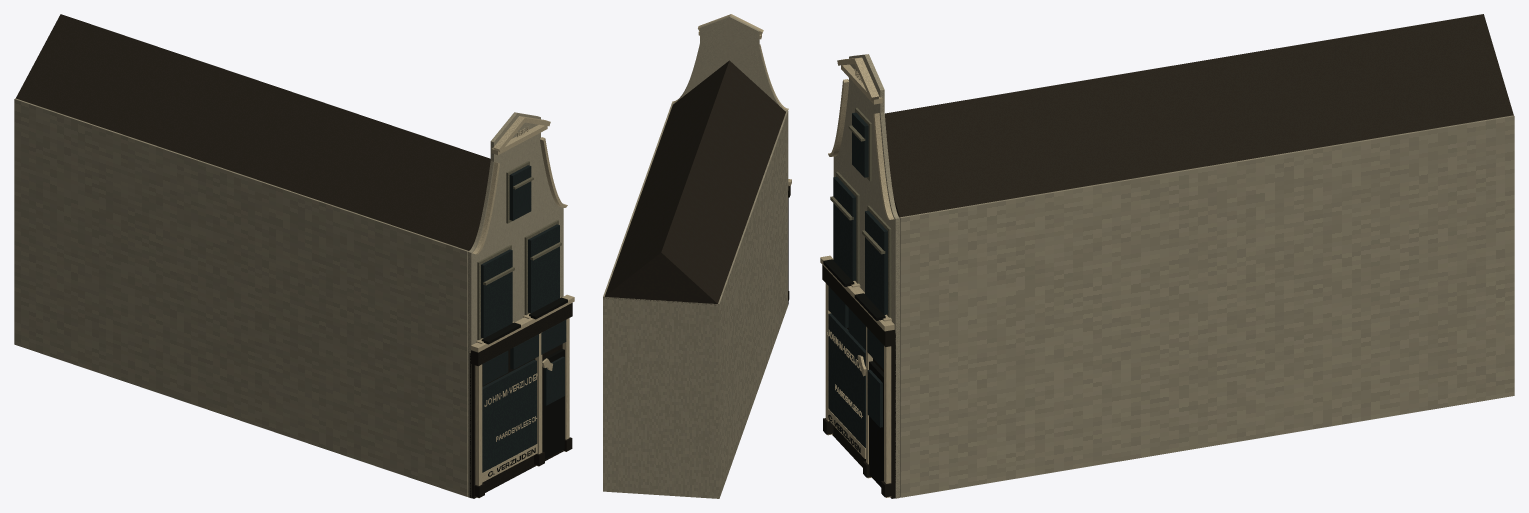
3 views of the same model, side by side, from view 1: azimuth 30°, elevation 25°; view 2: azimuth 150°, elevation 25°; view 3: azimuth 270°, elevation 25° (orthographic). The views are drawn at different scales.
Visible parts, largest first — view 1: slagerij-verzijden-sint-laurens47-0, slagerij-verzijden-sint-laurens47-2, slagerij-verzijden-sint-laurens47-4, slagerij-verzijden-sint-laurens47-1, slagerij-verzijden-sint-laurens47-6, slagerij-verzijden-sint-laurens47-5, slagerij-verzijden-sint-laurens47-3; view 2: slagerij-verzijden-sint-laurens47-0, slagerij-verzijden-sint-laurens47-2, slagerij-verzijden-sint-laurens47-1; view 3: slagerij-verzijden-sint-laurens47-0, slagerij-verzijden-sint-laurens47-2, slagerij-verzijden-sint-laurens47-4, slagerij-verzijden-sint-laurens47-1, slagerij-verzijden-sint-laurens47-6, slagerij-verzijden-sint-laurens47-5, slagerij-verzijden-sint-laurens47-3.
Part boxes in pixels (<box>): slagerij-verzijden-sint-laurens47-0: <box>14,98,563,498</box>; slagerij-verzijden-sint-laurens47-2: <box>16,14,490,250</box>; slagerij-verzijden-sint-laurens47-4: <box>481,165,566,472</box>; slagerij-verzijden-sint-laurens47-1: <box>471,116,574,498</box>; slagerij-verzijden-sint-laurens47-6: <box>469,303,572,498</box>; slagerij-verzijden-sint-laurens47-5: <box>481,297,567,476</box>; slagerij-verzijden-sint-laurens47-3: <box>477,161,561,340</box>; slagerij-verzijden-sint-laurens47-0: <box>603,15,788,498</box>; slagerij-verzijden-sint-laurens47-2: <box>604,60,785,305</box>; slagerij-verzijden-sint-laurens47-1: <box>672,14,791,185</box>; slagerij-verzijden-sint-laurens47-0: <box>833,54,1514,498</box>; slagerij-verzijden-sint-laurens47-2: <box>885,14,1513,217</box>; slagerij-verzijden-sint-laurens47-4: <box>828,112,887,447</box>; slagerij-verzijden-sint-laurens47-1: <box>820,57,894,497</box>; slagerij-verzijden-sint-laurens47-6: <box>822,265,895,498</box>; slagerij-verzijden-sint-laurens47-5: <box>823,259,885,486</box>; slagerij-verzijden-sint-laurens47-3: <box>830,108,891,317</box>.
Size of the model in its own units: 8.98 by 9.96 by 15.26.
7 materials, 7 textured.
